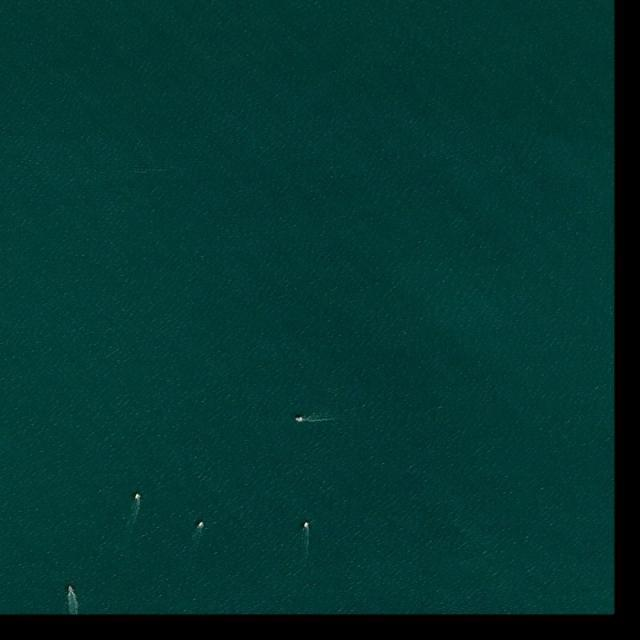ship: (68, 586, 74, 592), (299, 417, 303, 423), (199, 522, 203, 526), (304, 522, 307, 527), (135, 494, 138, 498)
